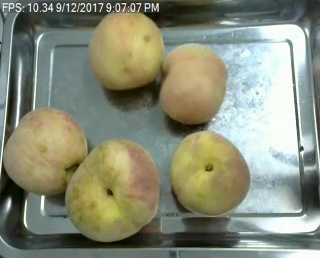Peach: (65, 139, 158, 244), (169, 129, 252, 217), (4, 107, 85, 193), (86, 6, 164, 92), (158, 42, 228, 124)
